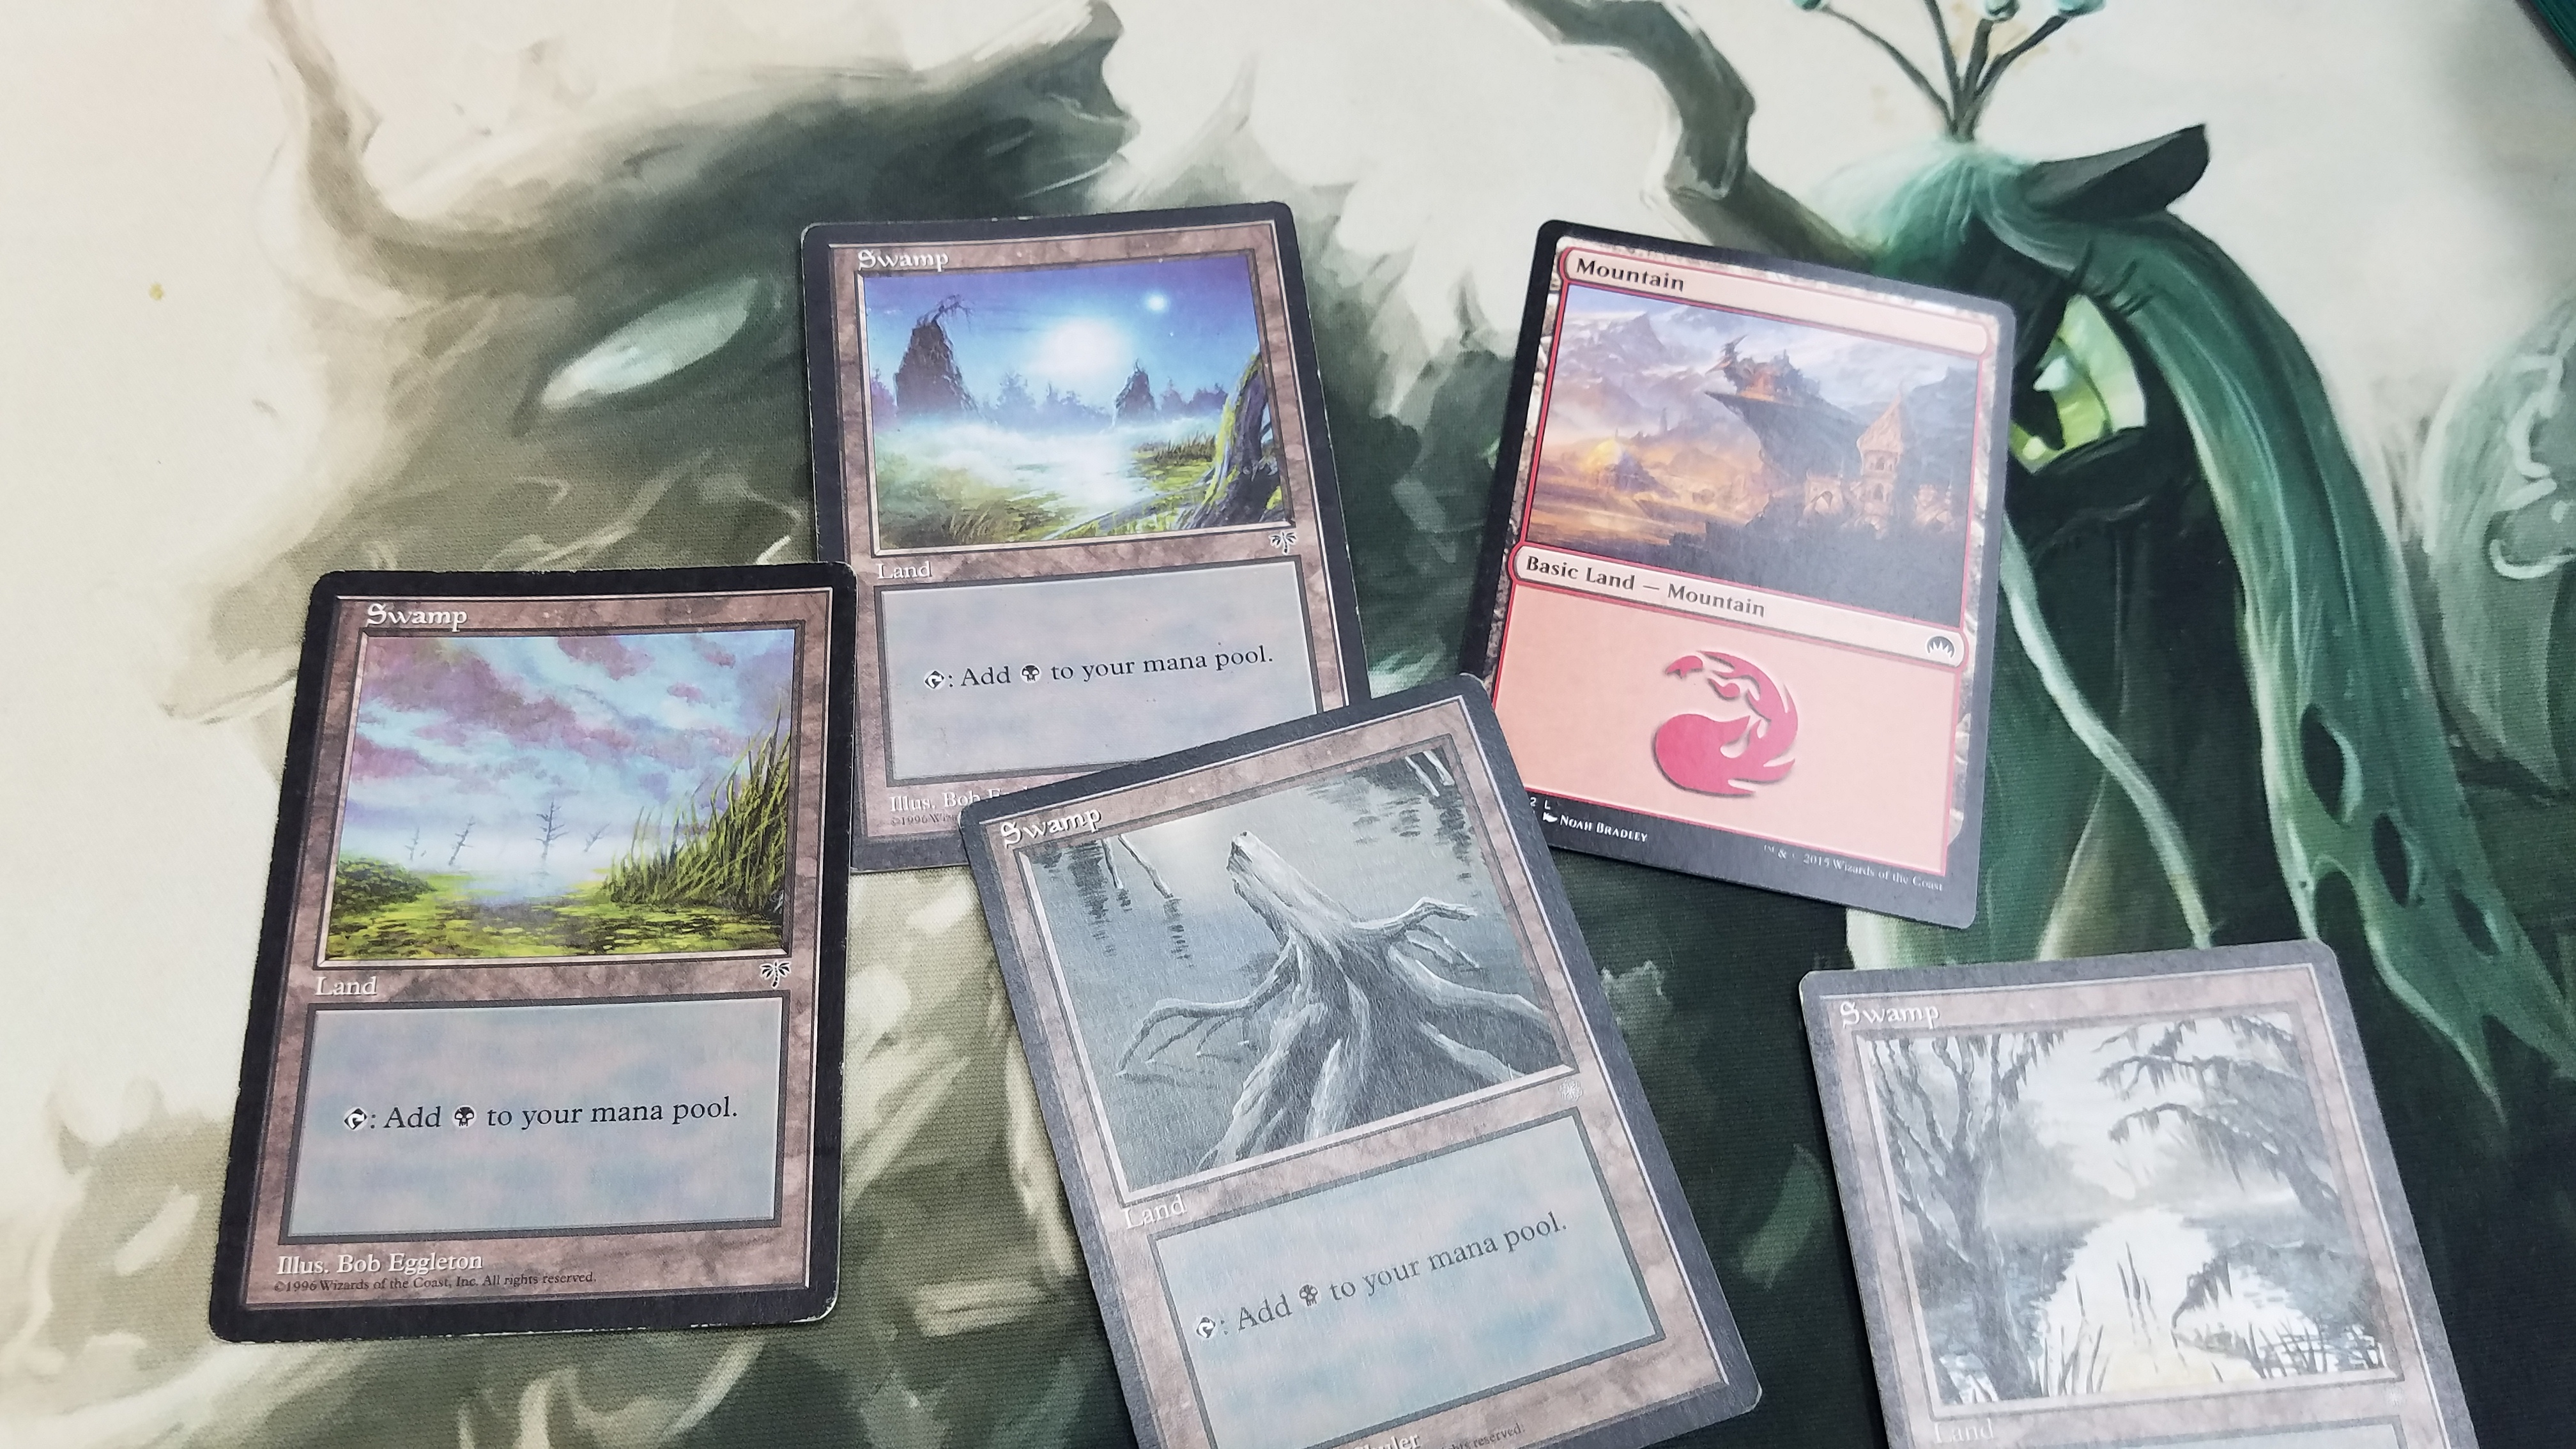Card: (970, 663, 1780, 1449), (198, 561, 870, 1341), (1467, 207, 2031, 943), (780, 200, 1384, 885), (1767, 922, 2496, 1449)
